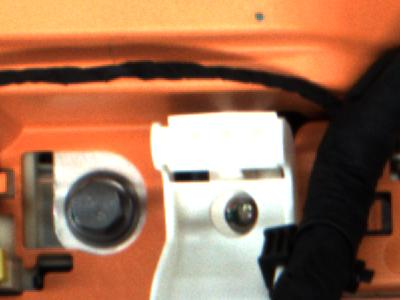nut_b: (54, 168, 153, 252)
